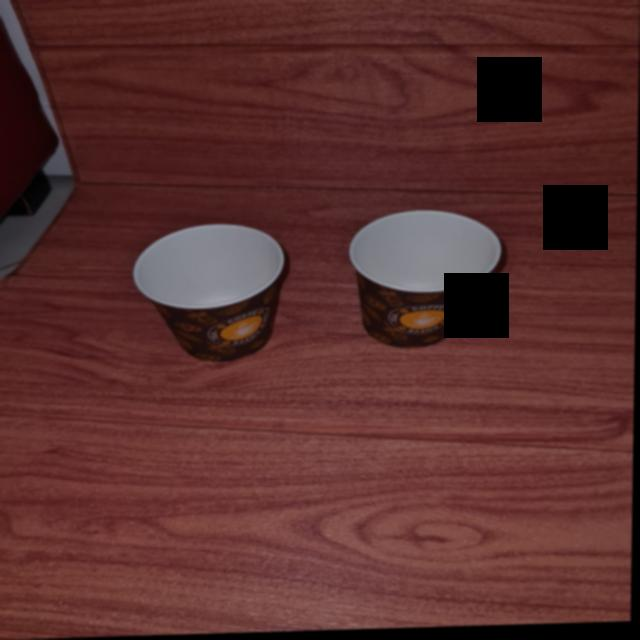cups: (126, 220, 295, 368), (351, 211, 512, 356)
